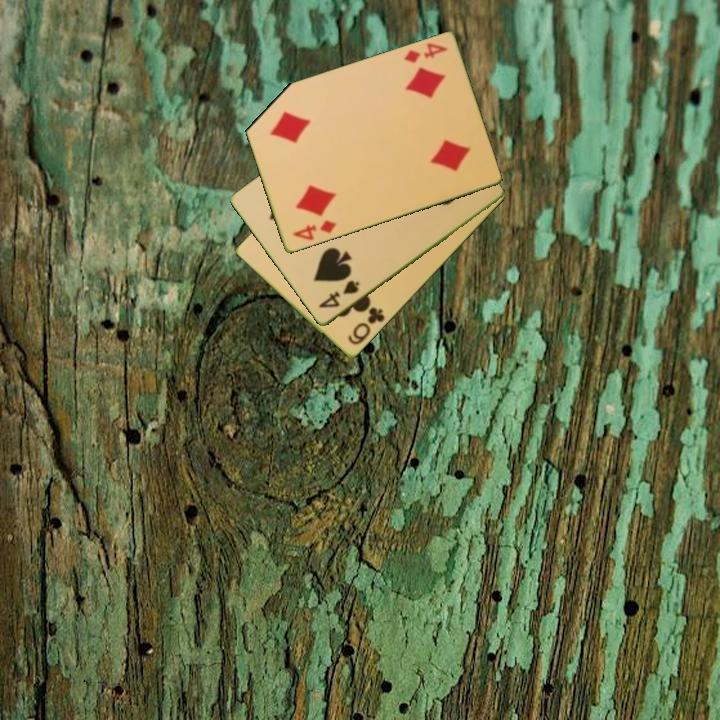4d: (289, 217, 339, 244), (400, 40, 450, 66)
4s: (315, 277, 362, 312)
6c: (344, 304, 388, 348)
